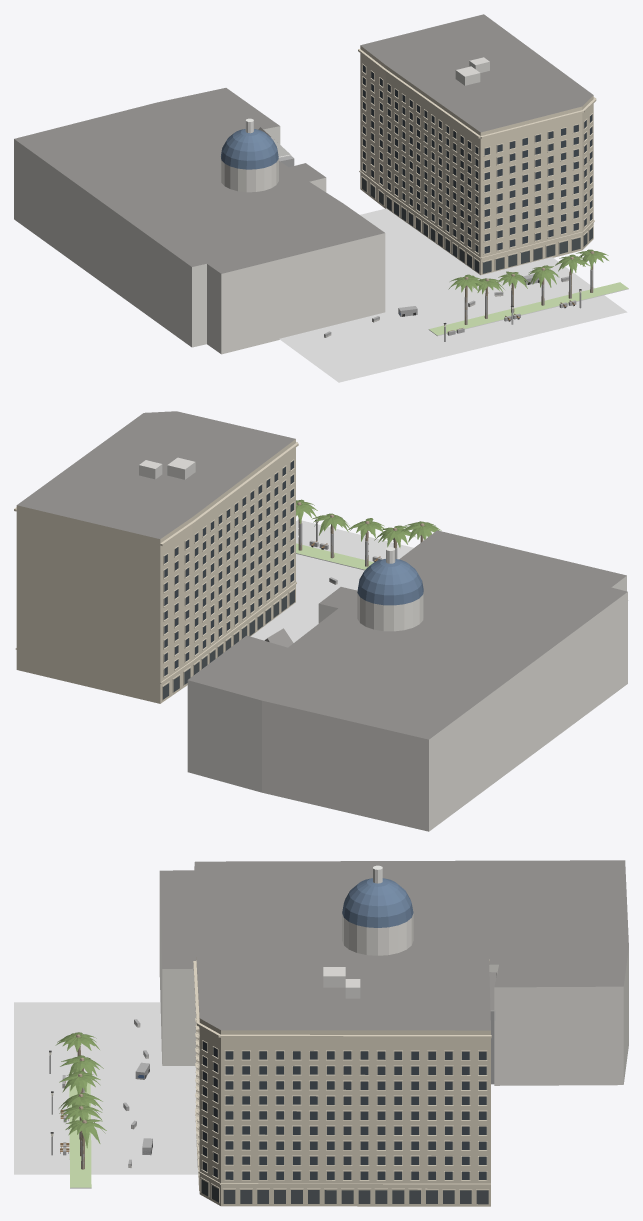
The model's file is chunk_02_03.glb.
3 views of the same model, one above another, from view 1: azimuth 30°, elevation 25°; view 2: azimuth 150°, elevation 25°; view 3: azimuth 270°, elevation 25° (orthographic). The views are drawn at different scales.
Visible parts, largest first — view 1: chunk_02_03_LOD0, chunk_02_03_COL; view 2: chunk_02_03_LOD0; view 3: chunk_02_03_LOD0, chunk_02_03_COL.
Part boxes in pixels (x1=…): chunk_02_03_LOD0: x1=14, y1=14, x2=628, y2=382; chunk_02_03_COL: x1=279, y1=156, x2=593, y2=341; chunk_02_03_LOD0: x1=14, y1=411, x2=628, y2=831; chunk_02_03_LOD0: x1=14, y1=860, x2=628, y2=1206; chunk_02_03_COL: x1=49, y1=1011, x2=494, y2=1168.
Size of what is drawn, in the model's own units: 116 by 40.5 by 121.
